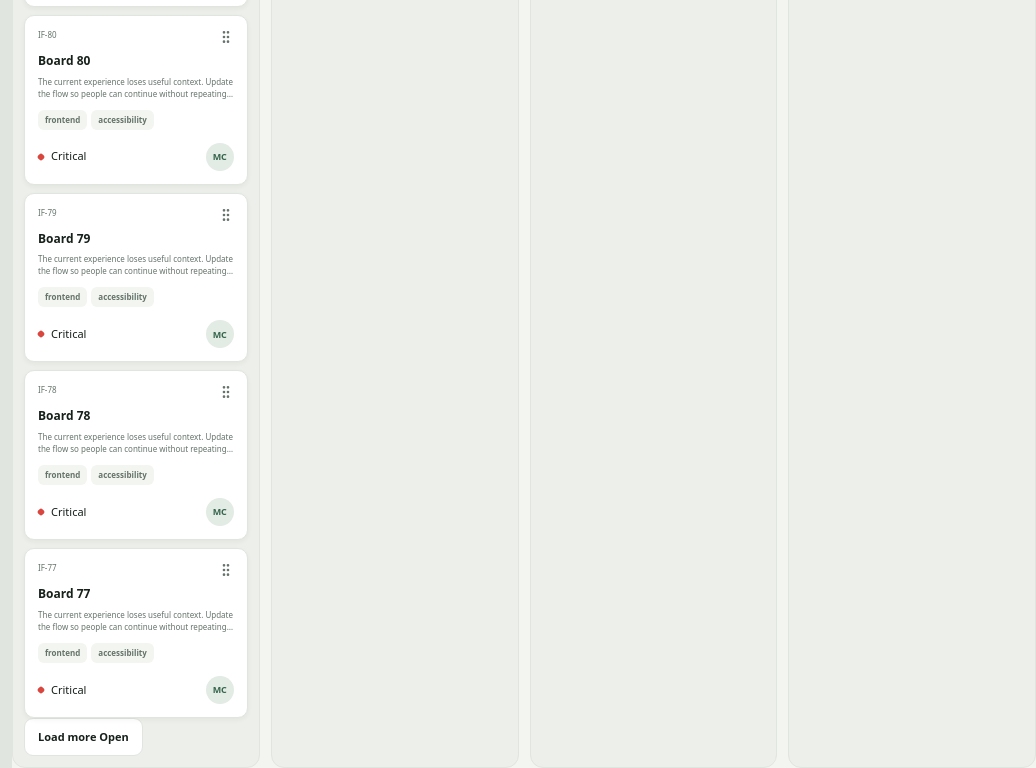
board loads all 101 cards and shows loaded/total counts
(page scrolled)
Click the button "Load more Open" at (83, 737), box [24,718,143,756]
(page scrolled)
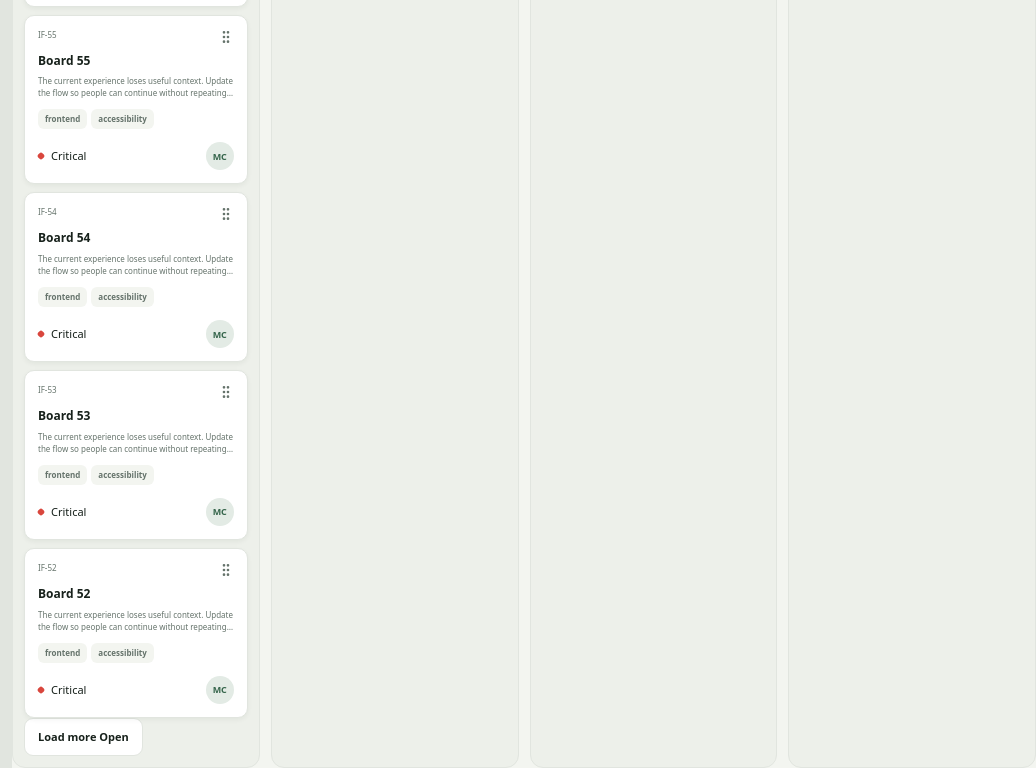
Click the button "Load more Open" at (83, 737), box [24,718,143,756]
(page scrolled)
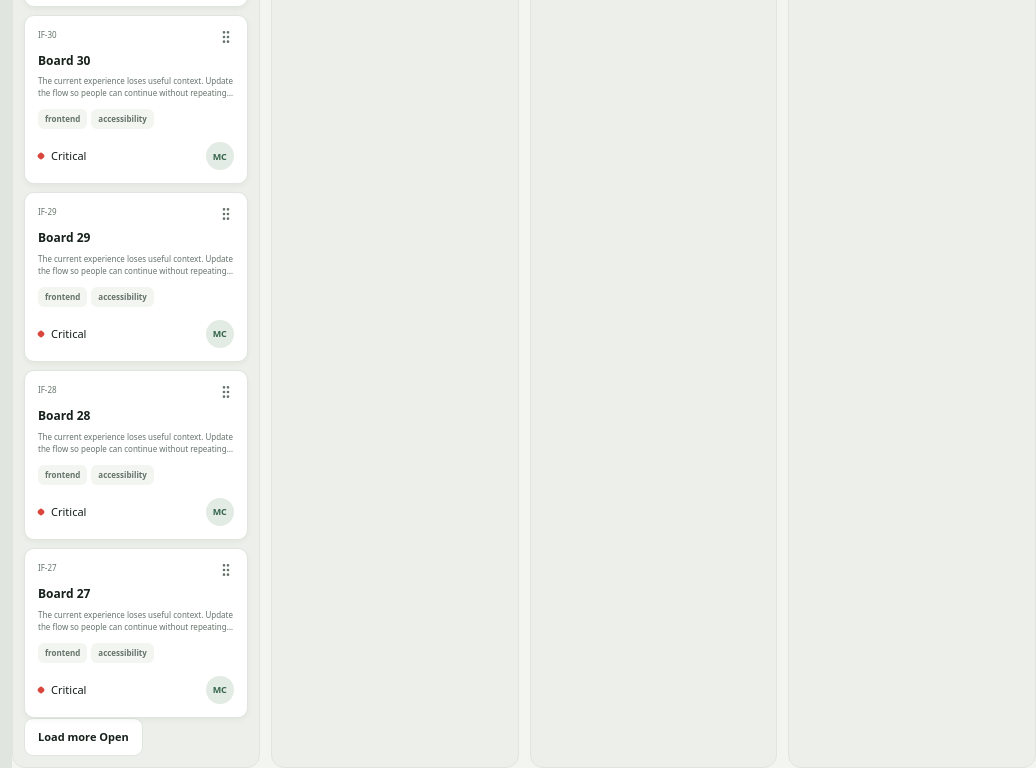
Click the button "Load more Open" at (83, 737), box [24,718,143,756]
(page scrolled)
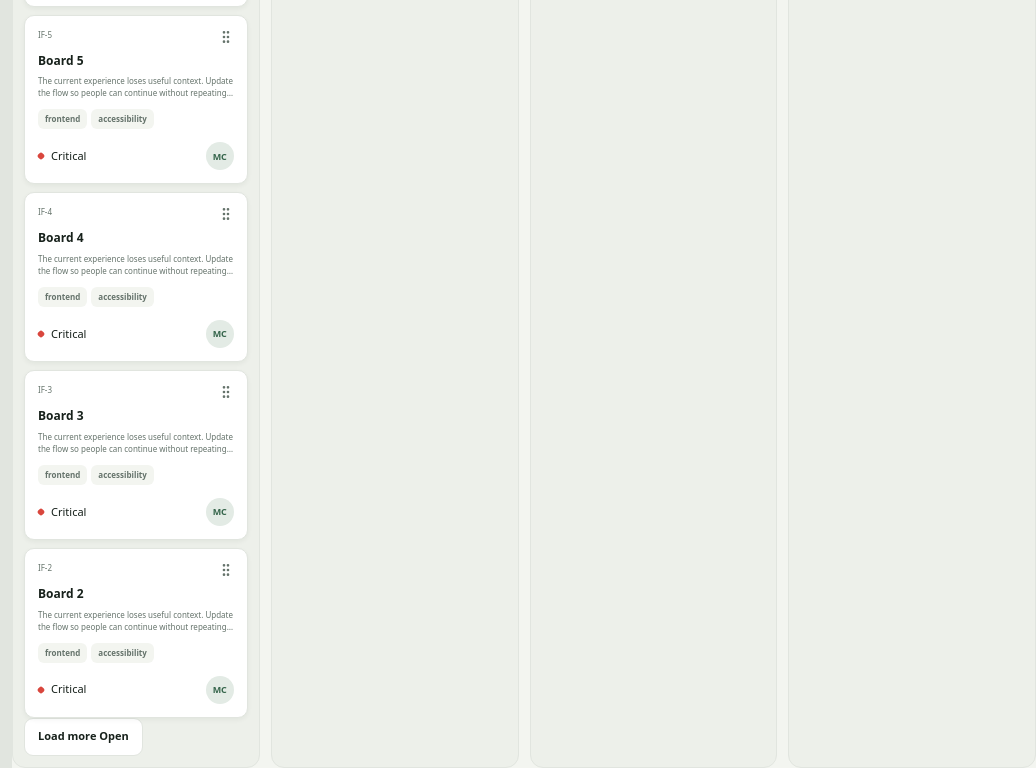
Click the button "Load more Open" at (83, 737), box [24,718,143,756]
(page scrolled)
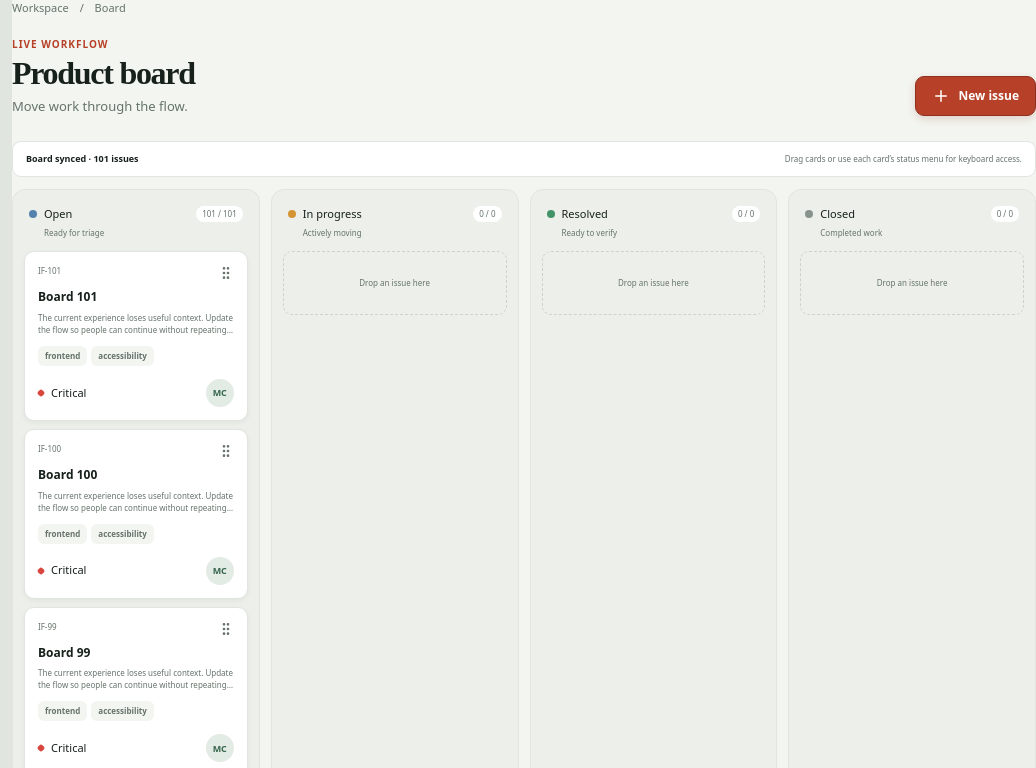
Result: the button "Load more Open" is gone
